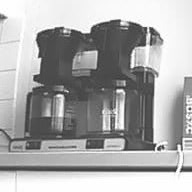empty coffee: (84, 77, 140, 138)
not empty coffee: (23, 83, 82, 140)
